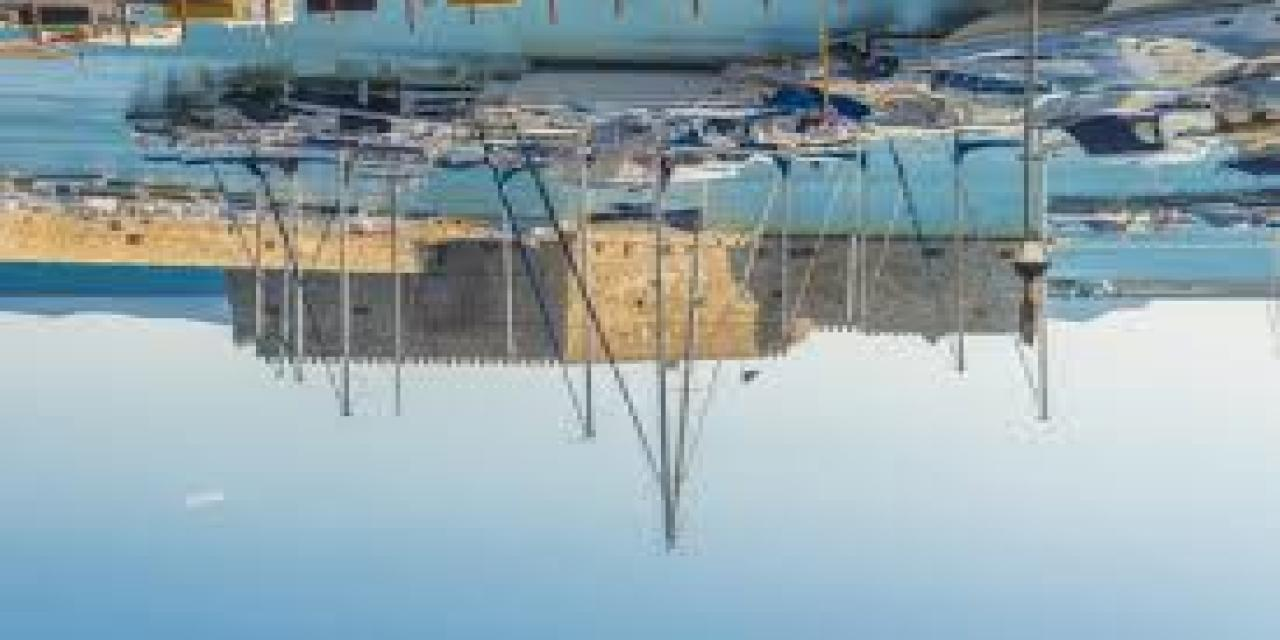Kules: (215, 238, 1057, 370)
